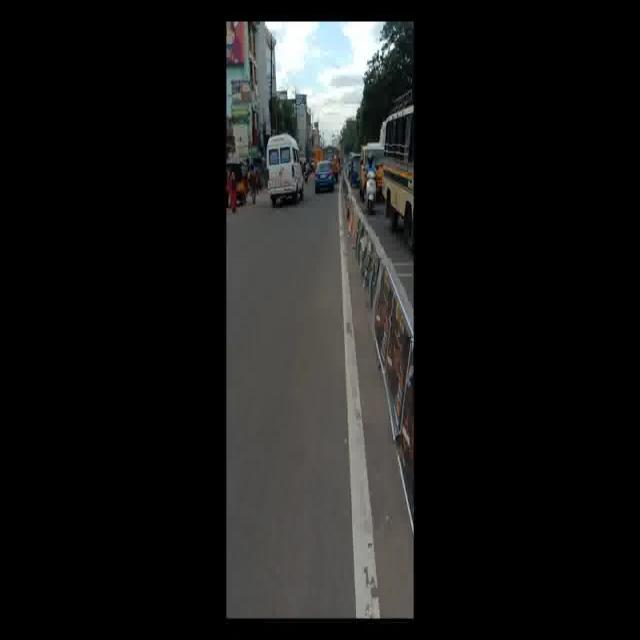ambulance: (260, 128, 310, 224)
